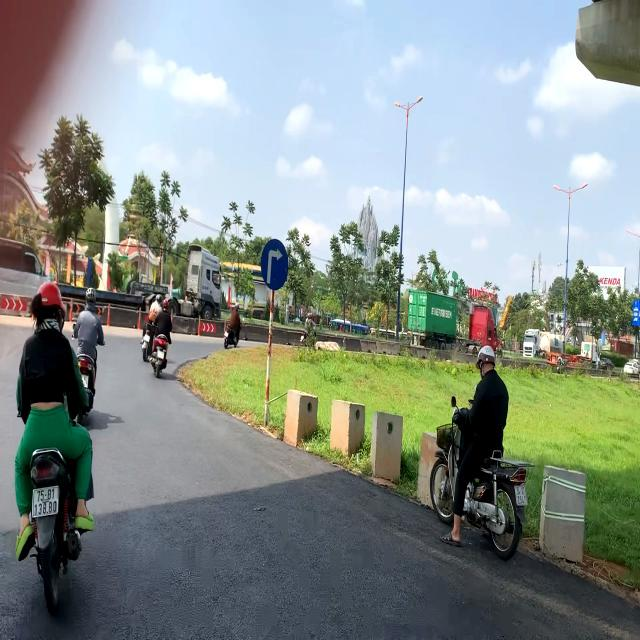Cac xe chi duoc re phai: (261, 237, 288, 290)
